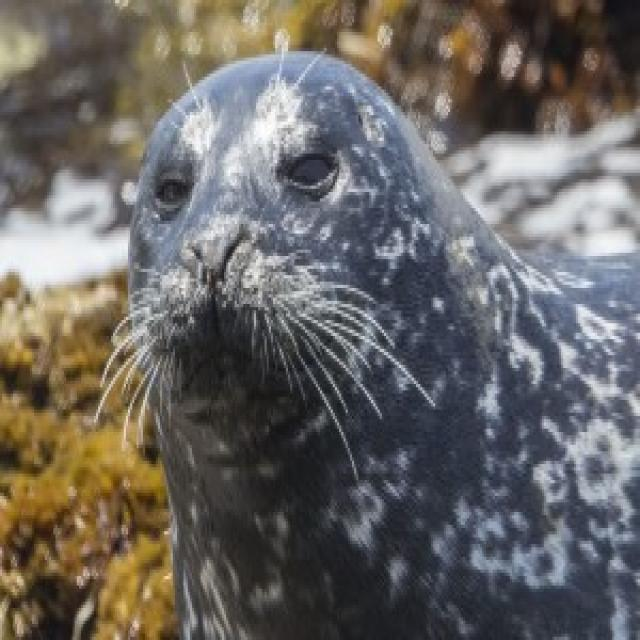Seal: (101, 38, 626, 615)
